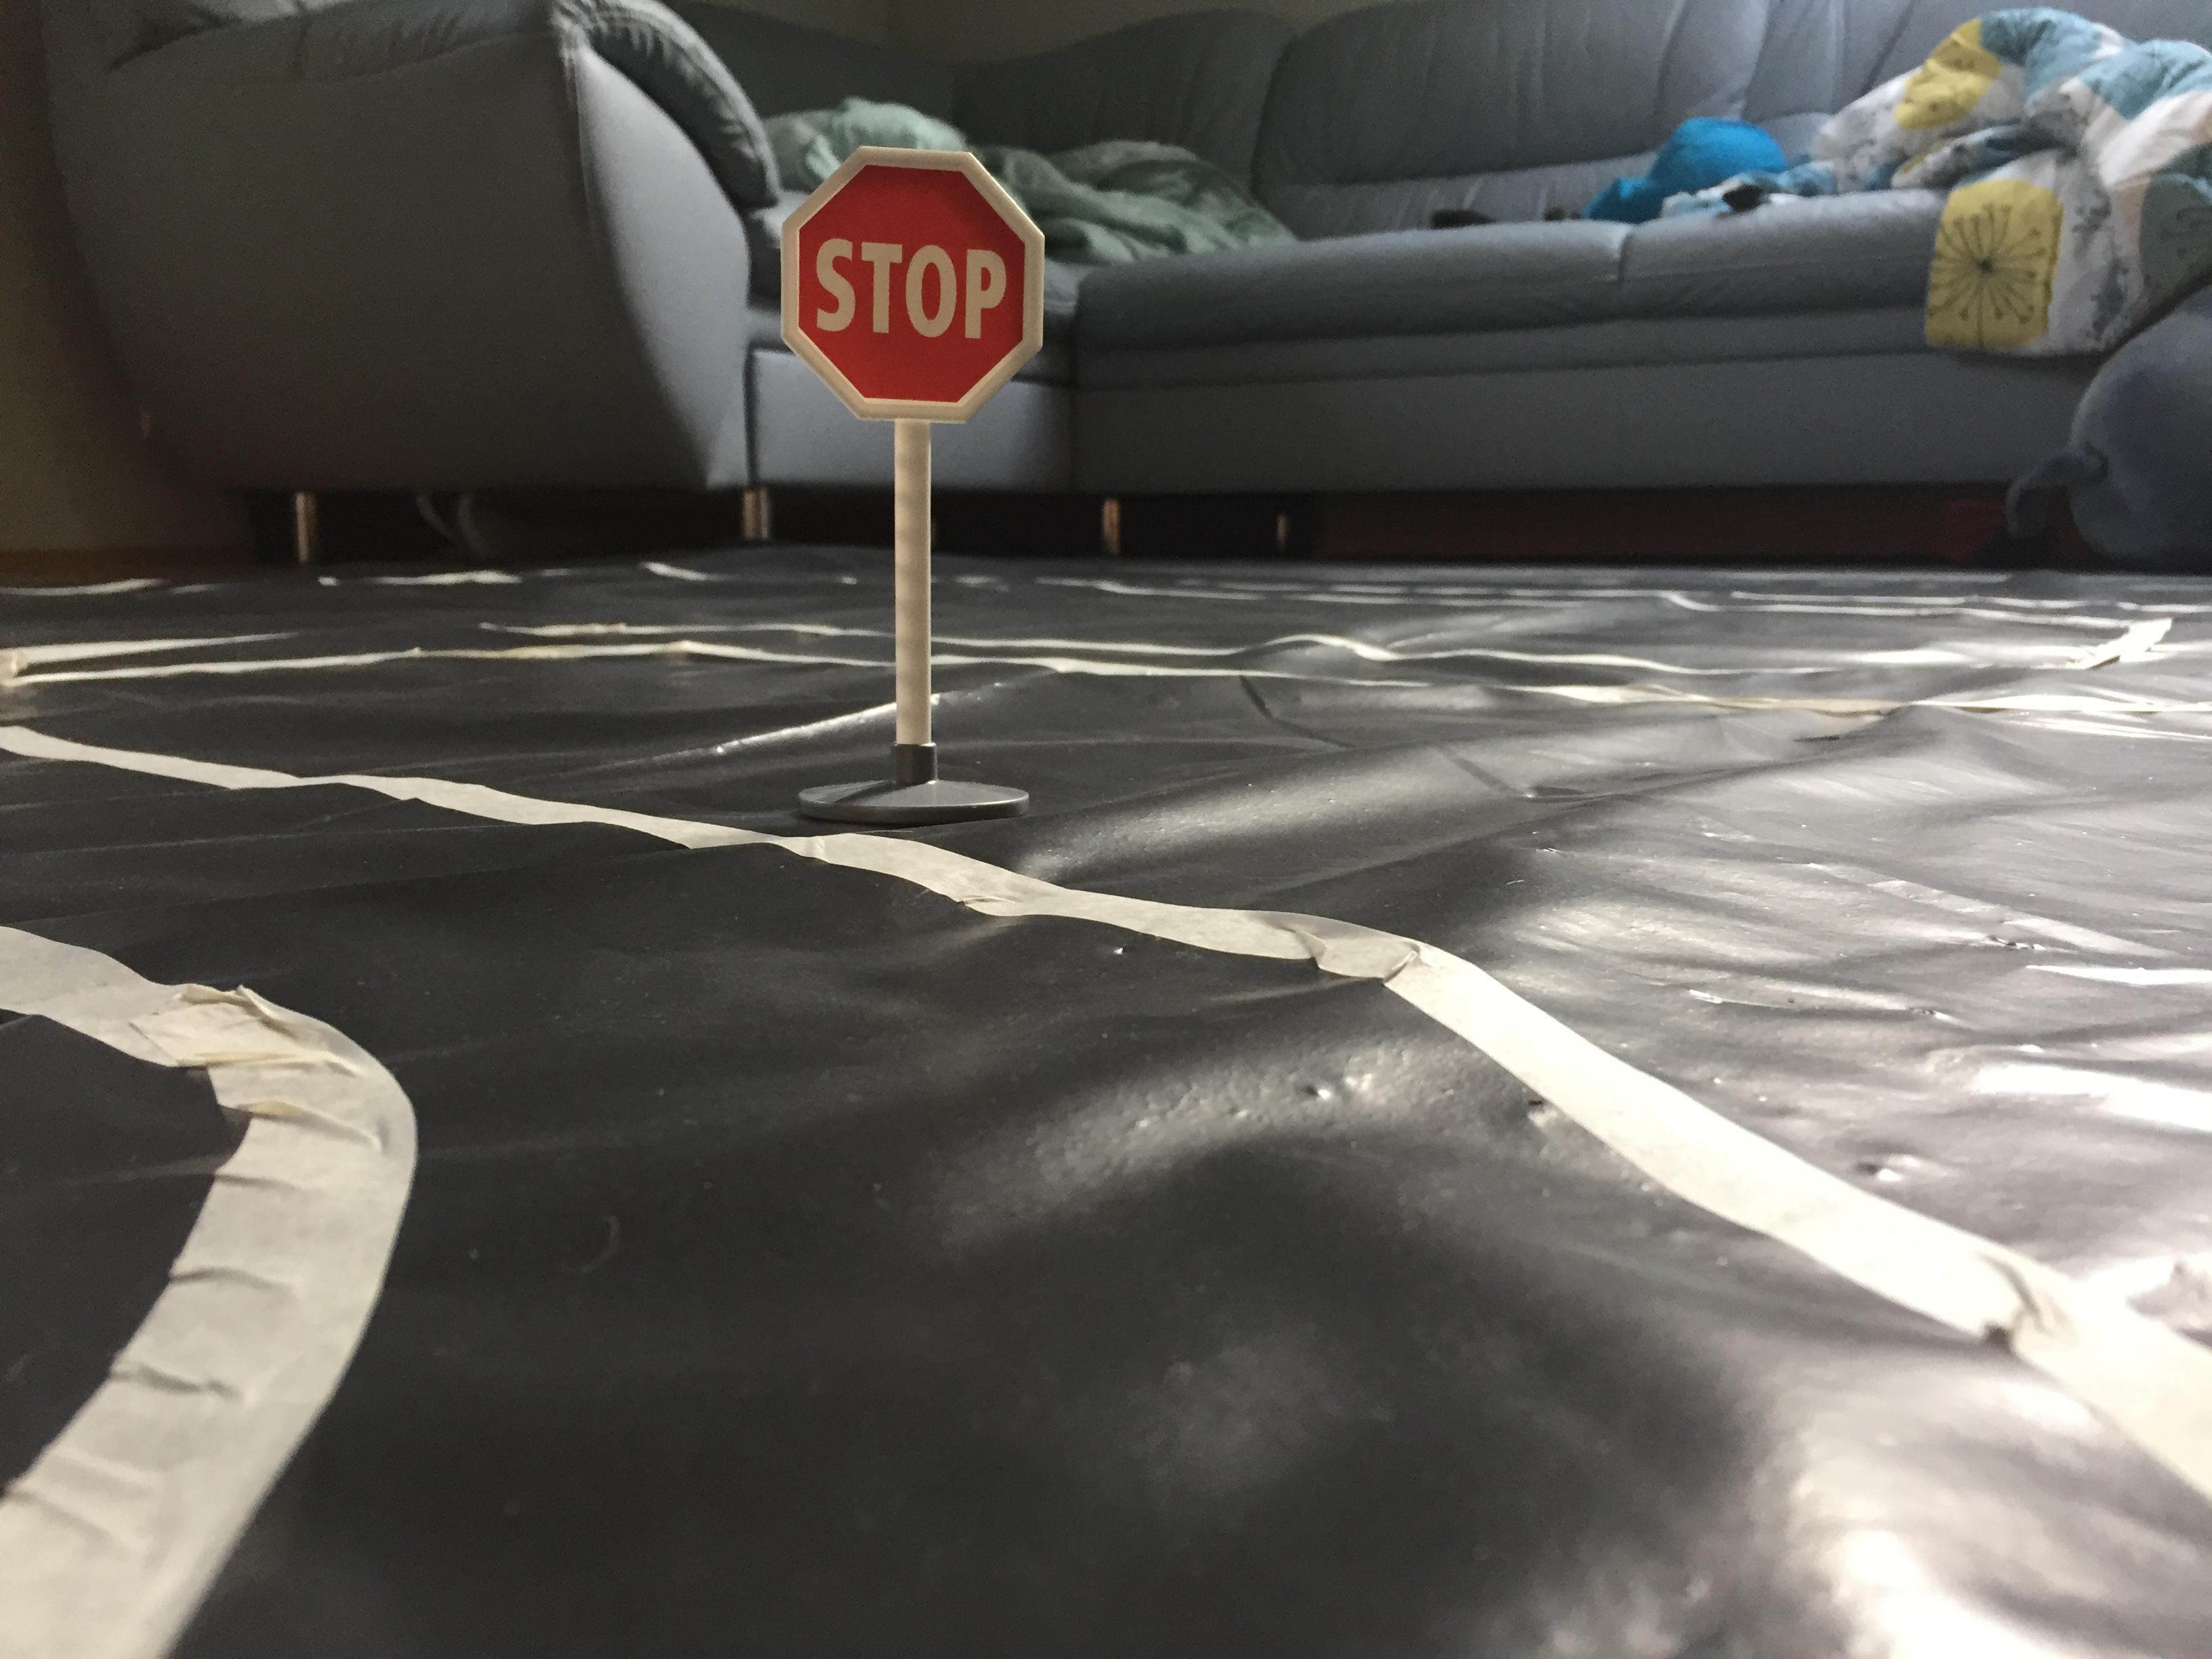stop: (768, 134, 1061, 430)
